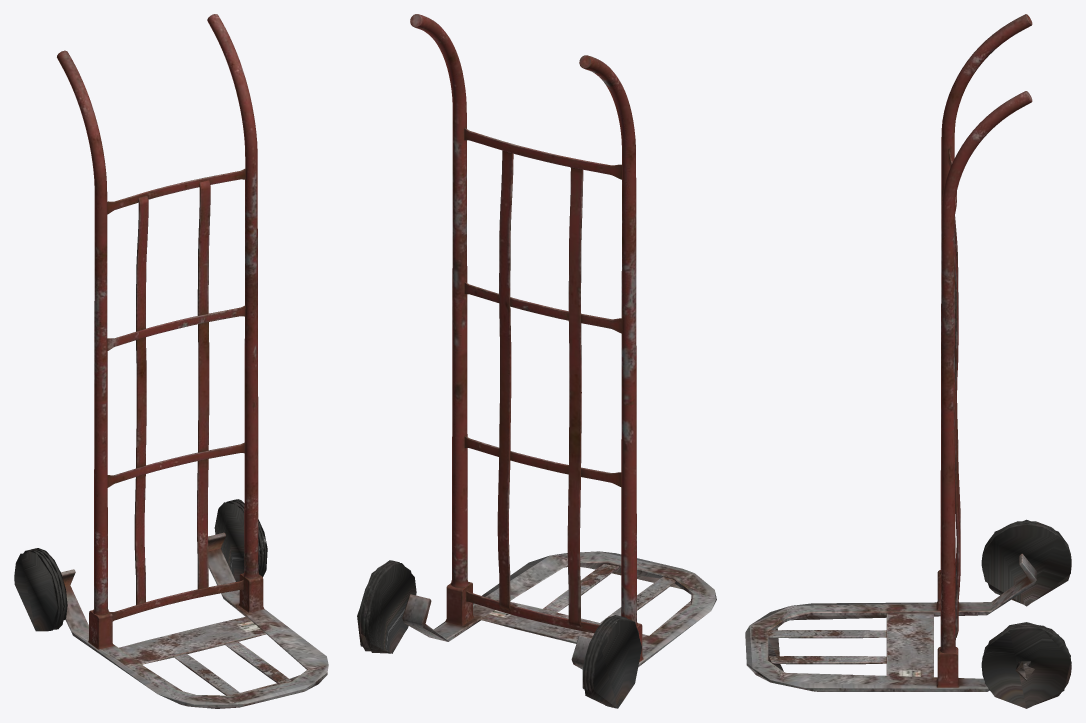
File: hand_truck.glb
3 renders of one model, left to right at view 1: azimuth 30°, elevation 25°; view 2: azimuth 150°, elevation 25°; view 3: azimuth 270°, elevation 25°, orthographic. The views are drawn at different scales.
Visible parts, largest first — view 1: hand_truck; view 2: hand_truck; view 3: hand_truck.
Boxes of the visible parts, x1,y1,x2,y2 form: hand_truck: (14, 14, 328, 708); hand_truck: (357, 14, 716, 708); hand_truck: (745, 14, 1071, 708).
Bounding box in the file's own units: 0.5589 × 1.4 × 0.6908.
1 material, 1 textured.
